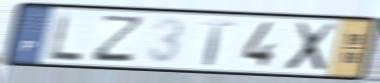3: (147, 16, 188, 66)
4: (240, 20, 278, 70)
L: (48, 10, 85, 62)
T: (200, 18, 236, 67)
X: (282, 20, 339, 73)
Z: (88, 13, 148, 63)
